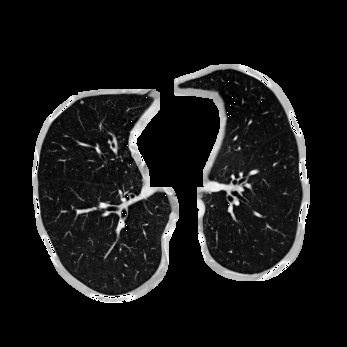PN: (80, 100, 84, 104)
